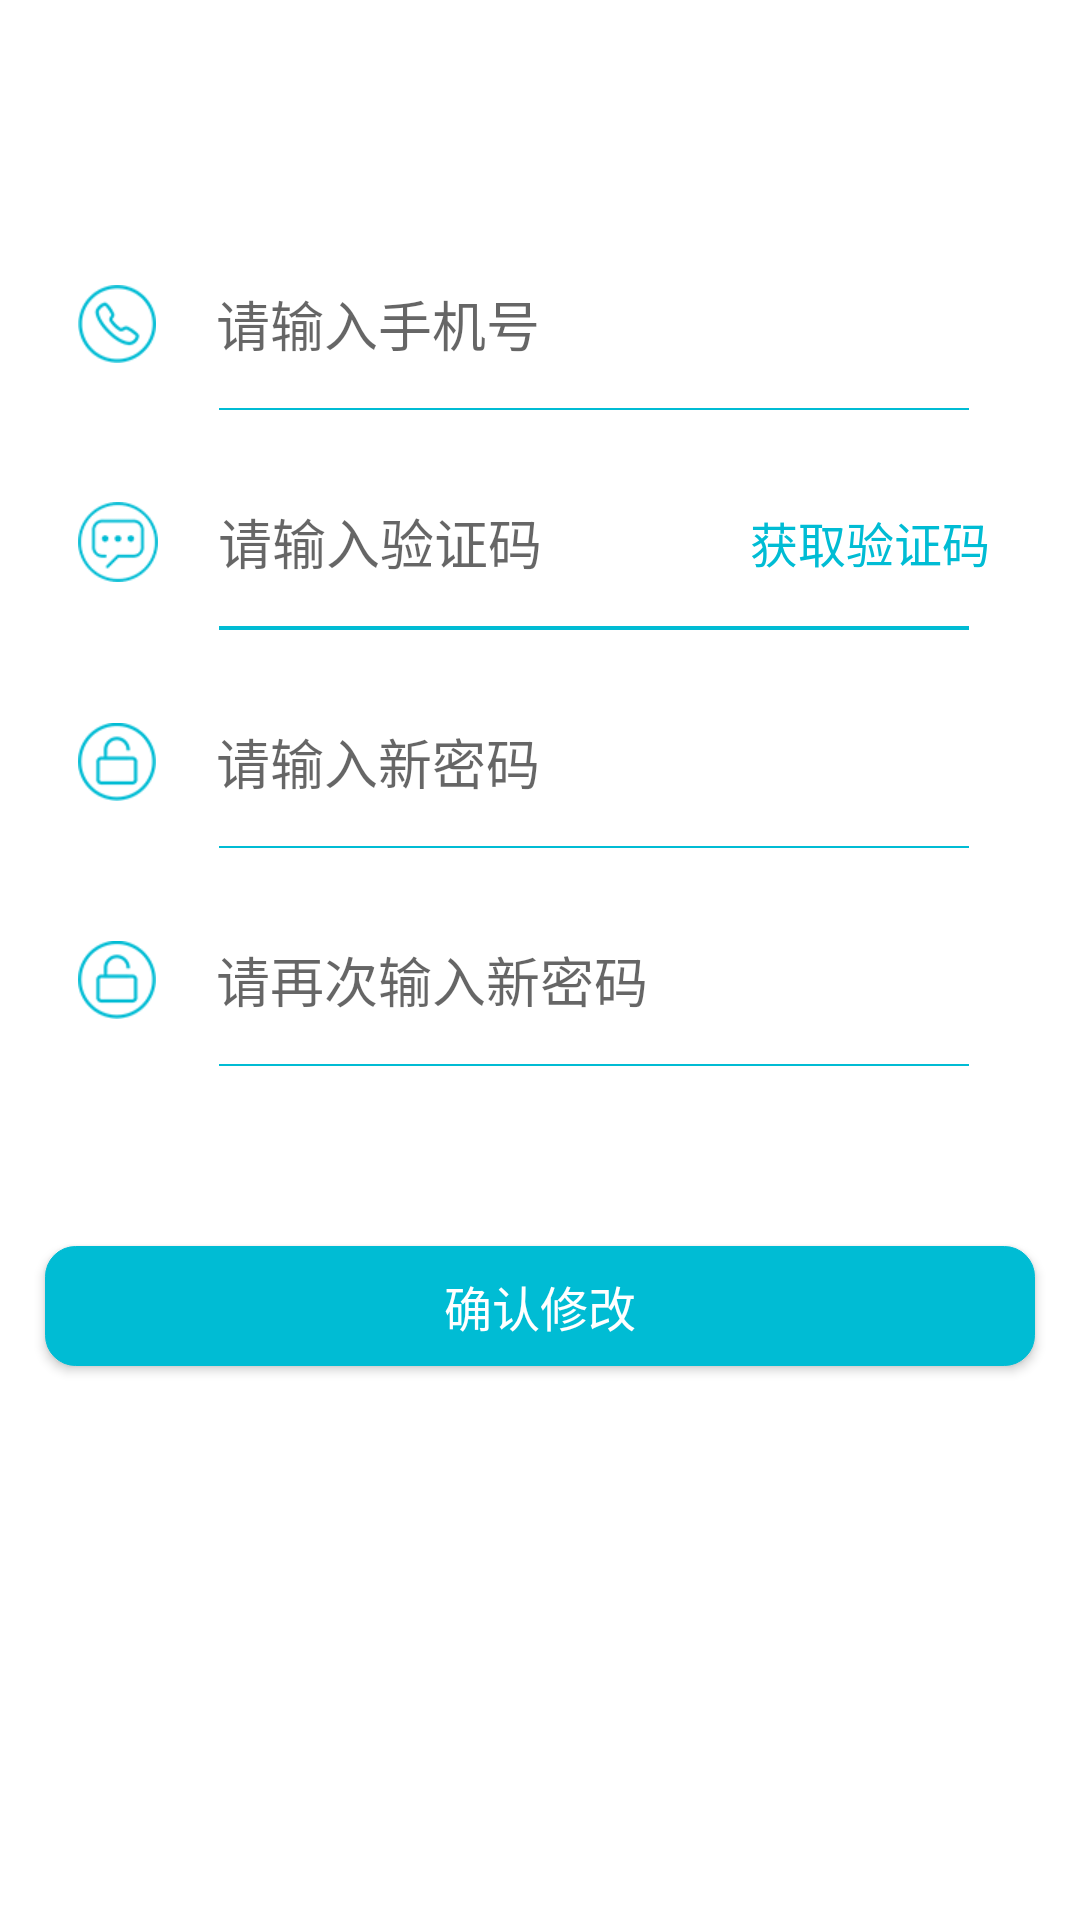

Locate icon controls on the screen. Image size 1080x1920, boxes as (left=x1, top=y1, right=x2, bottom=y2).
forget psw: (left=78, top=723, right=156, bottom=801), (left=78, top=941, right=156, bottom=1019)
forget psw code: (left=78, top=502, right=158, bottom=582)
forget psw phone: (left=78, top=285, right=156, bottom=363)
